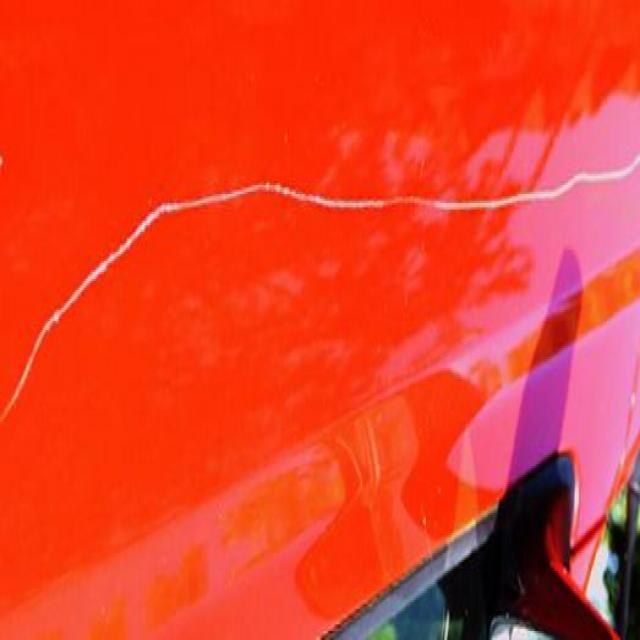scratch: (0, 133, 636, 437)
